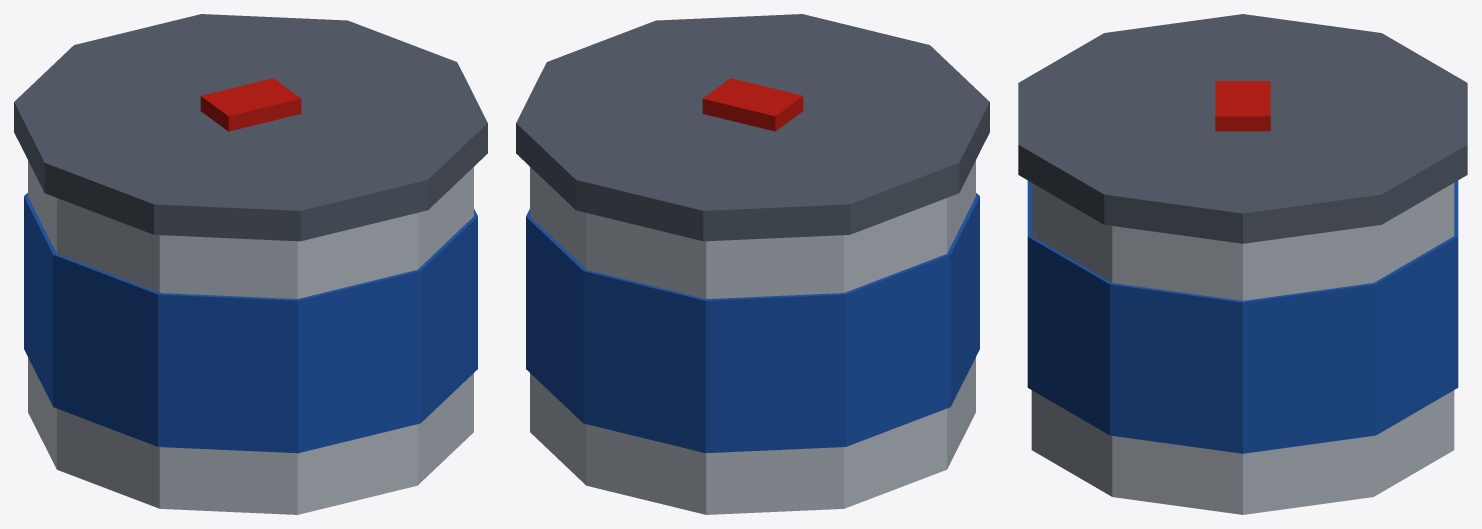
Rendered from cannedFish.glb.
3 renders of one model, left to right at view 1: azimuth 30°, elevation 25°; view 2: azimuth 150°, elevation 25°; view 3: azimuth 270°, elevation 25°, orthographic.
Parts seen in each view (by area): view 1: cannedFish; view 2: cannedFish; view 3: cannedFish.
Part boxes in pixels (x1,y1,x2,y2): cannedFish: [14, 14, 487, 514]; cannedFish: [516, 14, 989, 514]; cannedFish: [1018, 14, 1467, 514].
Bounding box in the file's own units: 0.17 × 0.128 × 0.1617.
Materials: 1 (1 with a texture image).
